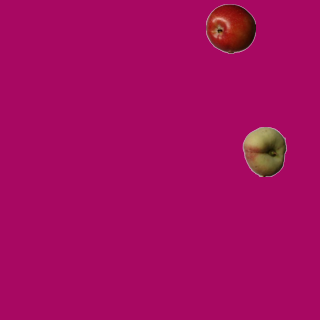Apple Braeburn: (205, 3, 255, 53)
Peach Flat: (239, 126, 289, 176)
